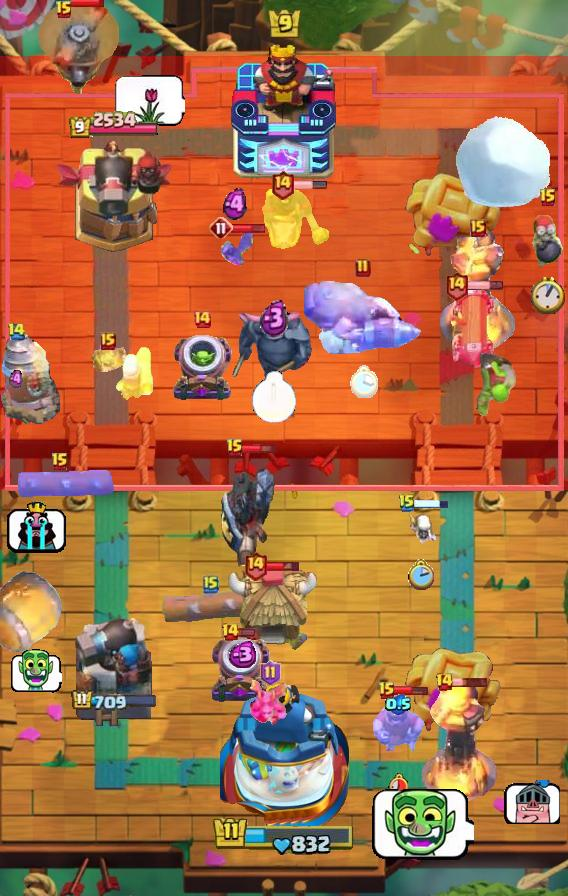bar-level: (468, 353, 518, 419)
barbarian: (217, 227, 253, 269)
battle-healer: (444, 289, 498, 371)
clock: (212, 815, 356, 857)
dark-prince: (33, 6, 127, 94)
dirt: (0, 568, 64, 656)
earthquake: (372, 687, 424, 751)
electro-dragon: (419, 678, 499, 806), (439, 229, 517, 357)
electro-spirit: (259, 299, 288, 337), (225, 641, 258, 668), (223, 188, 247, 221), (384, 693, 411, 714), (9, 369, 23, 391)
elixir: (251, 371, 297, 424), (531, 276, 565, 314), (350, 364, 378, 399), (407, 559, 434, 589), (388, 773, 408, 797)
emote: (242, 441, 277, 455), (452, 676, 489, 688), (266, 560, 302, 572), (394, 685, 430, 697), (414, 498, 449, 510), (468, 280, 505, 291), (231, 222, 266, 233), (292, 180, 328, 190), (71, 0, 105, 8), (237, 626, 256, 637)
freeze: (260, 181, 332, 249)
goblin-cage: (170, 333, 234, 403), (209, 635, 273, 705)
golemite: (232, 310, 316, 384)
heal-spirit: (404, 507, 437, 549)
ice-golem: (530, 213, 566, 269)
ice-spirit-evolution: (87, 340, 129, 376)
inferno-dragon: (219, 453, 277, 573)
king-tower: (219, 678, 349, 826), (230, 41, 338, 181)
magic-archer: (0, 333, 60, 425)
minion: (6, 466, 114, 502), (161, 586, 261, 624)
prince: (224, 563, 318, 653)
royal-delivery: (250, 676, 290, 726)
selected: (68, 112, 160, 140), (70, 689, 157, 713)
skeleton: (370, 784, 475, 864), (113, 74, 185, 126), (5, 498, 66, 554), (504, 780, 561, 824), (10, 649, 62, 693)
text: (270, 168, 295, 199), (444, 270, 469, 301), (243, 550, 268, 581), (209, 216, 233, 240), (259, 660, 280, 686), (192, 309, 212, 329), (434, 672, 454, 692), (6, 323, 26, 342), (221, 622, 240, 642), (55, 0, 73, 20), (539, 188, 557, 208), (226, 438, 244, 458), (51, 452, 69, 472), (398, 493, 416, 513), (378, 681, 396, 701), (355, 258, 371, 278), (203, 574, 219, 594), (470, 219, 486, 237), (100, 332, 116, 350)
tombstone: (113, 344, 155, 402)
tower-bar: (53, 138, 175, 256), (71, 611, 157, 731)
wall-breaker: (454, 115, 551, 210)
wizard: (300, 276, 426, 354)
